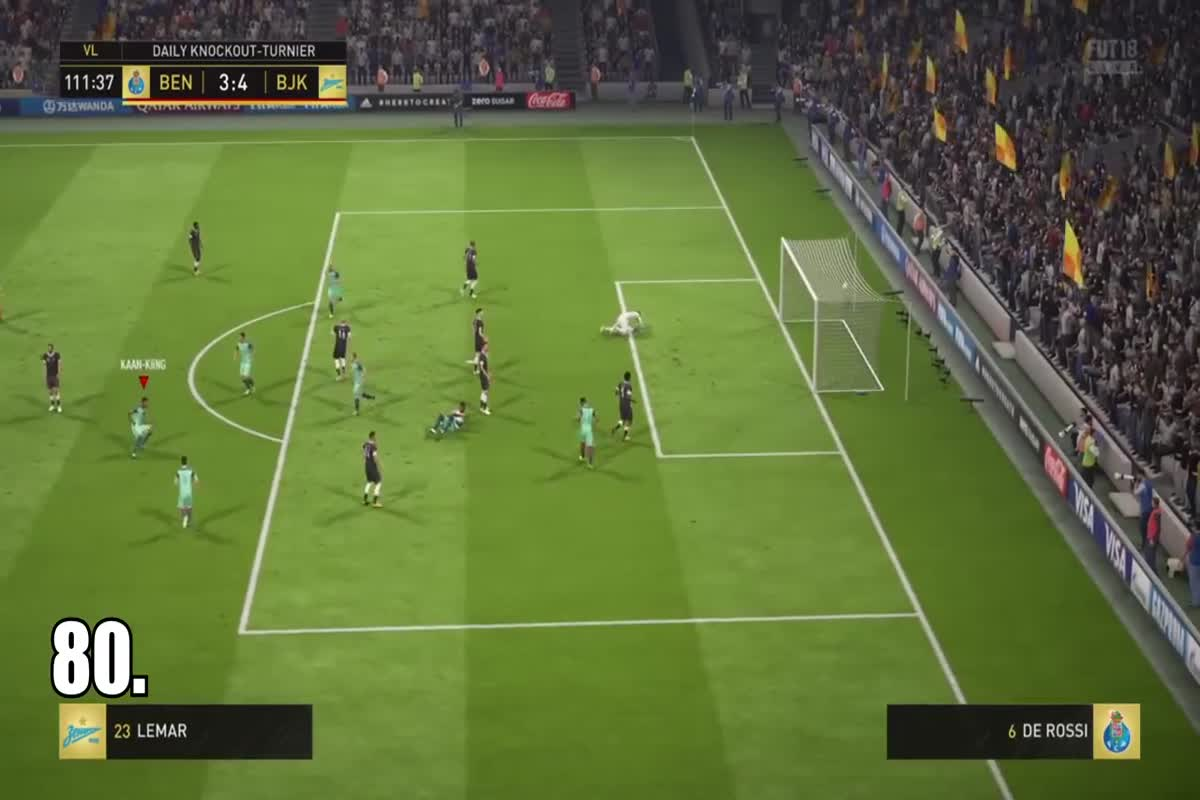ball: (836, 275, 855, 294)
